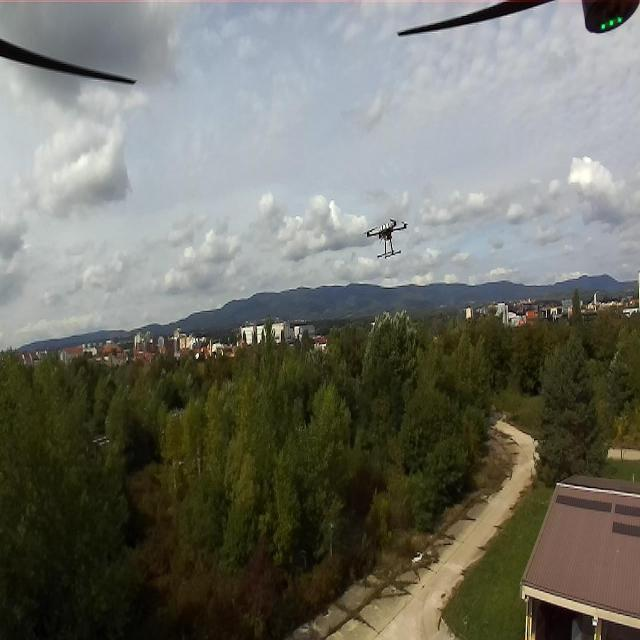drone: (0, 629, 640, 640)
